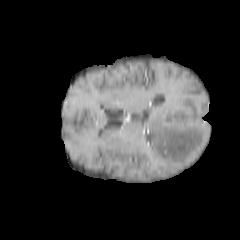glioma: (143, 102, 206, 162)
